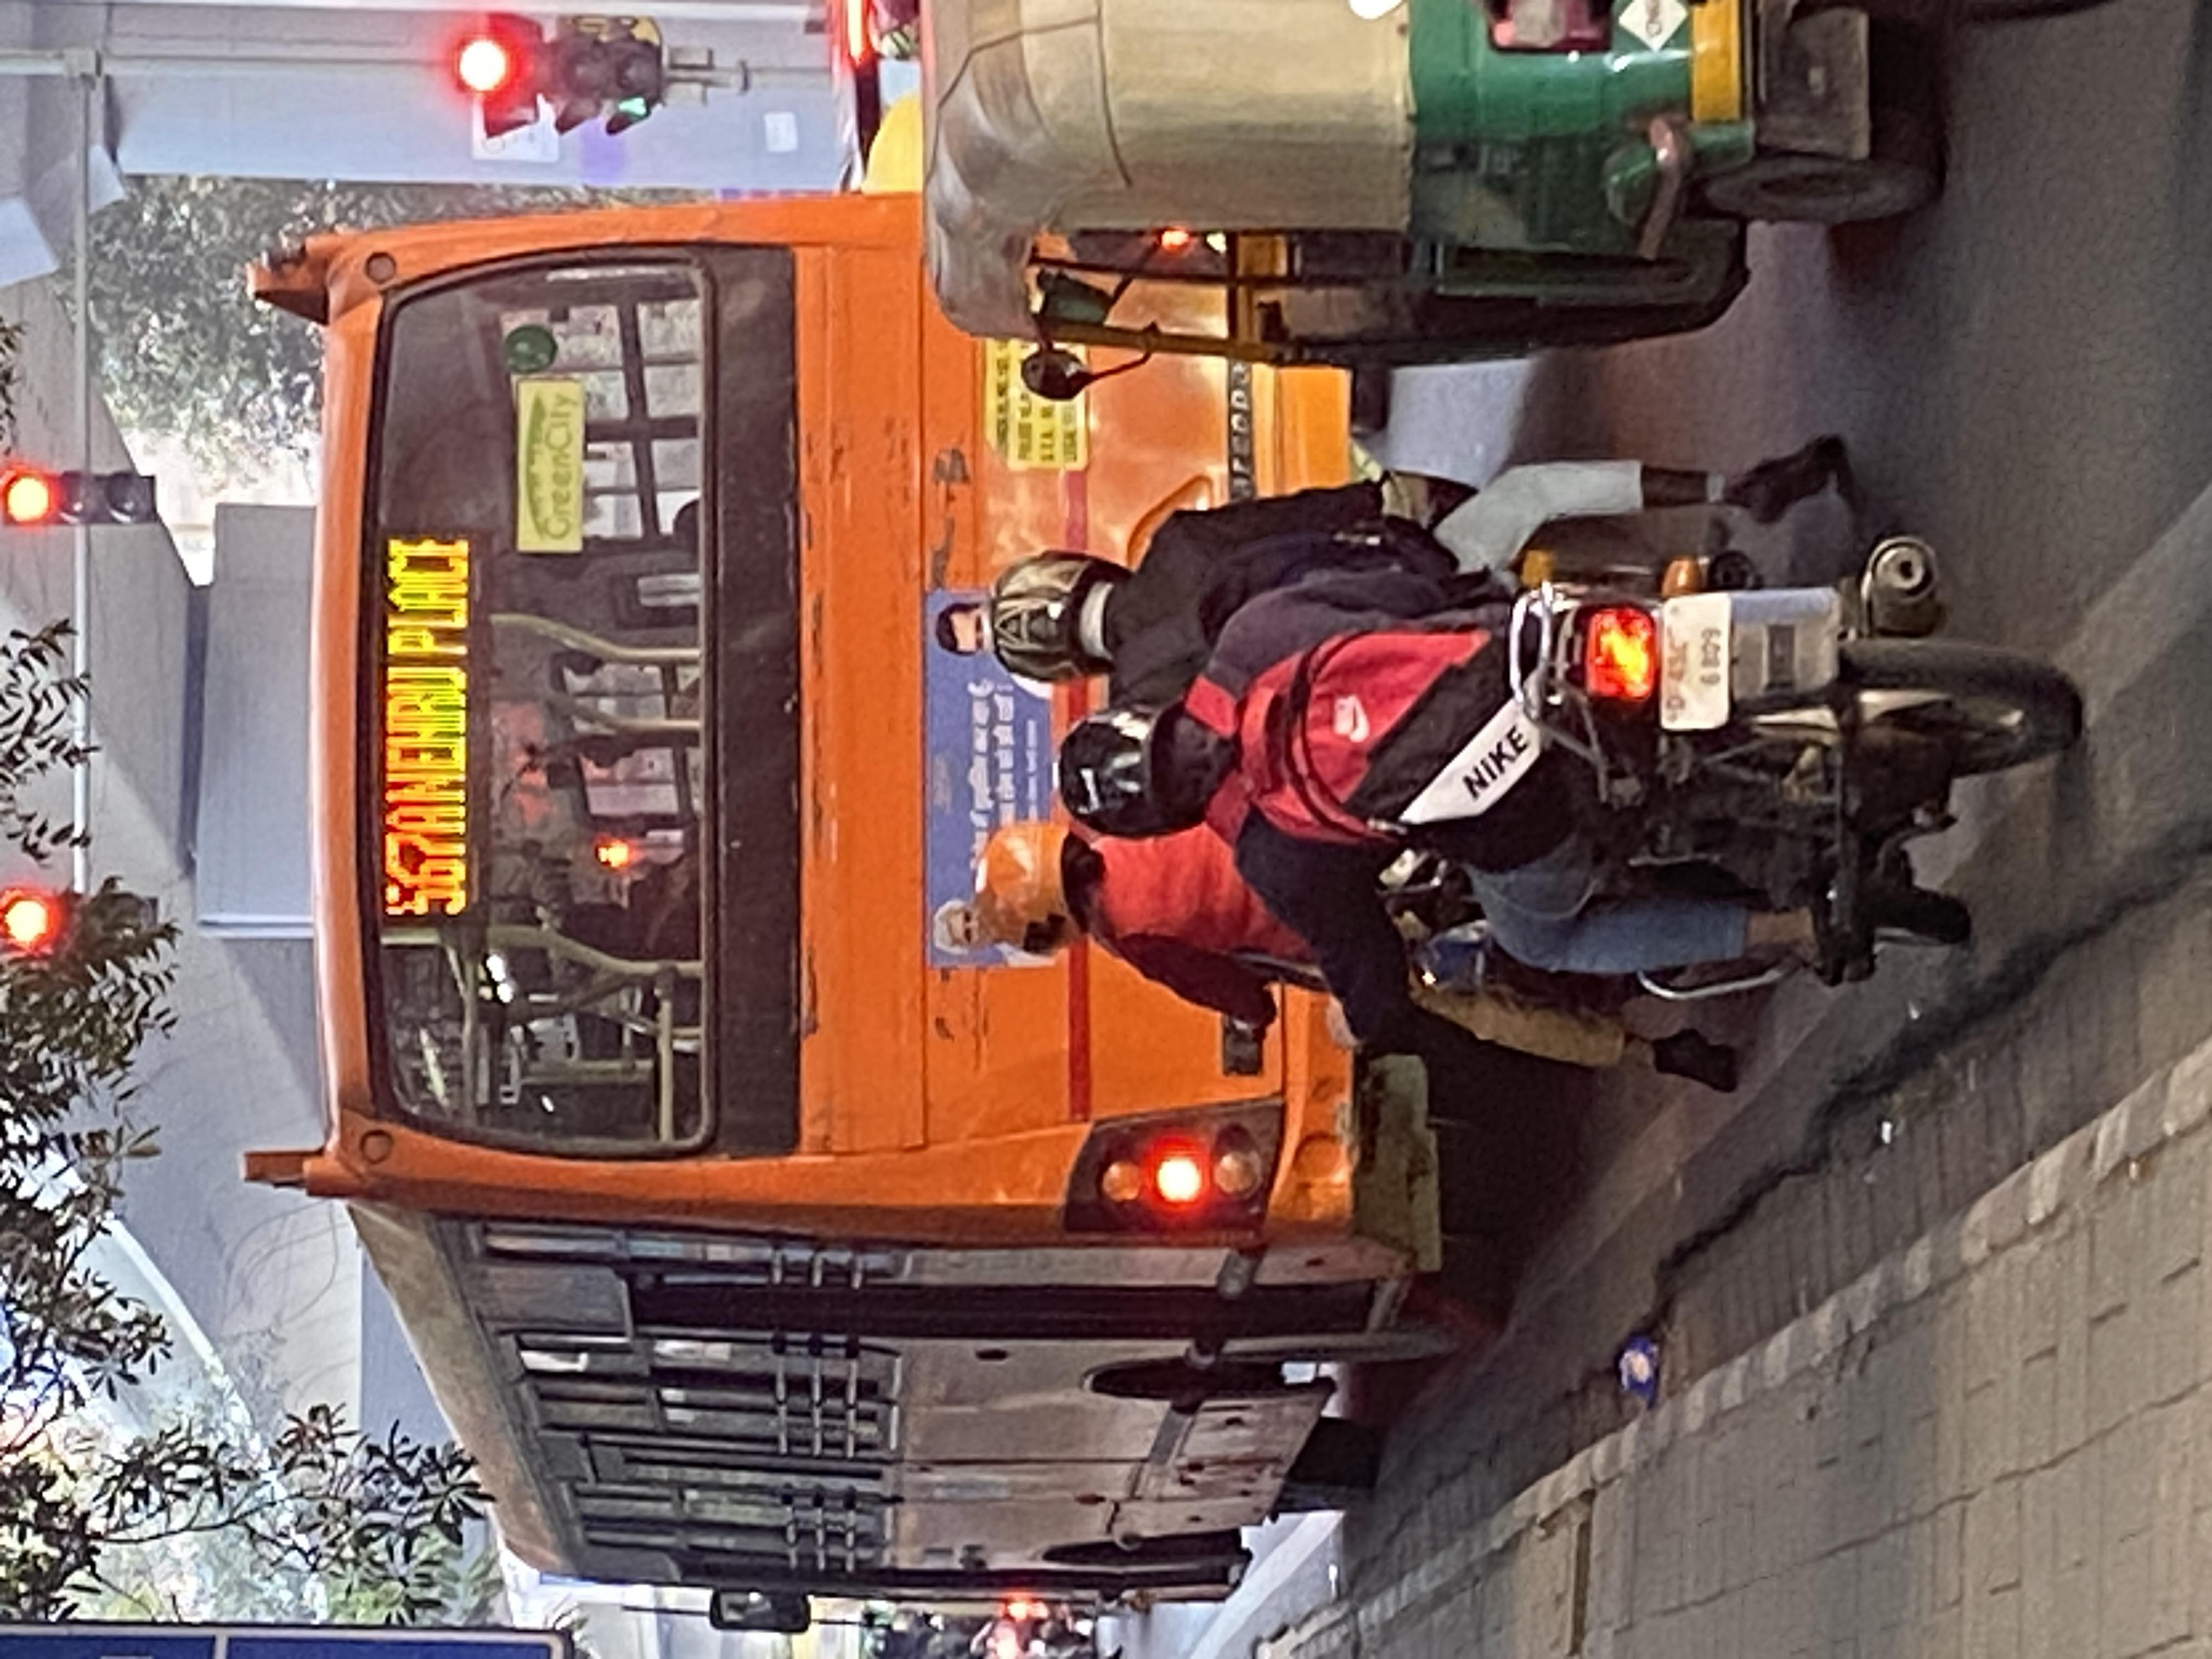Bus: (247, 214, 1487, 1272)
Display Board: (345, 498, 564, 1026)
